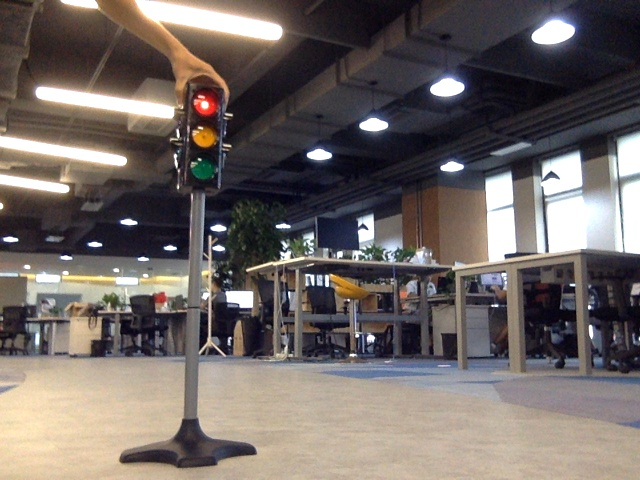red: (180, 91, 219, 185)
